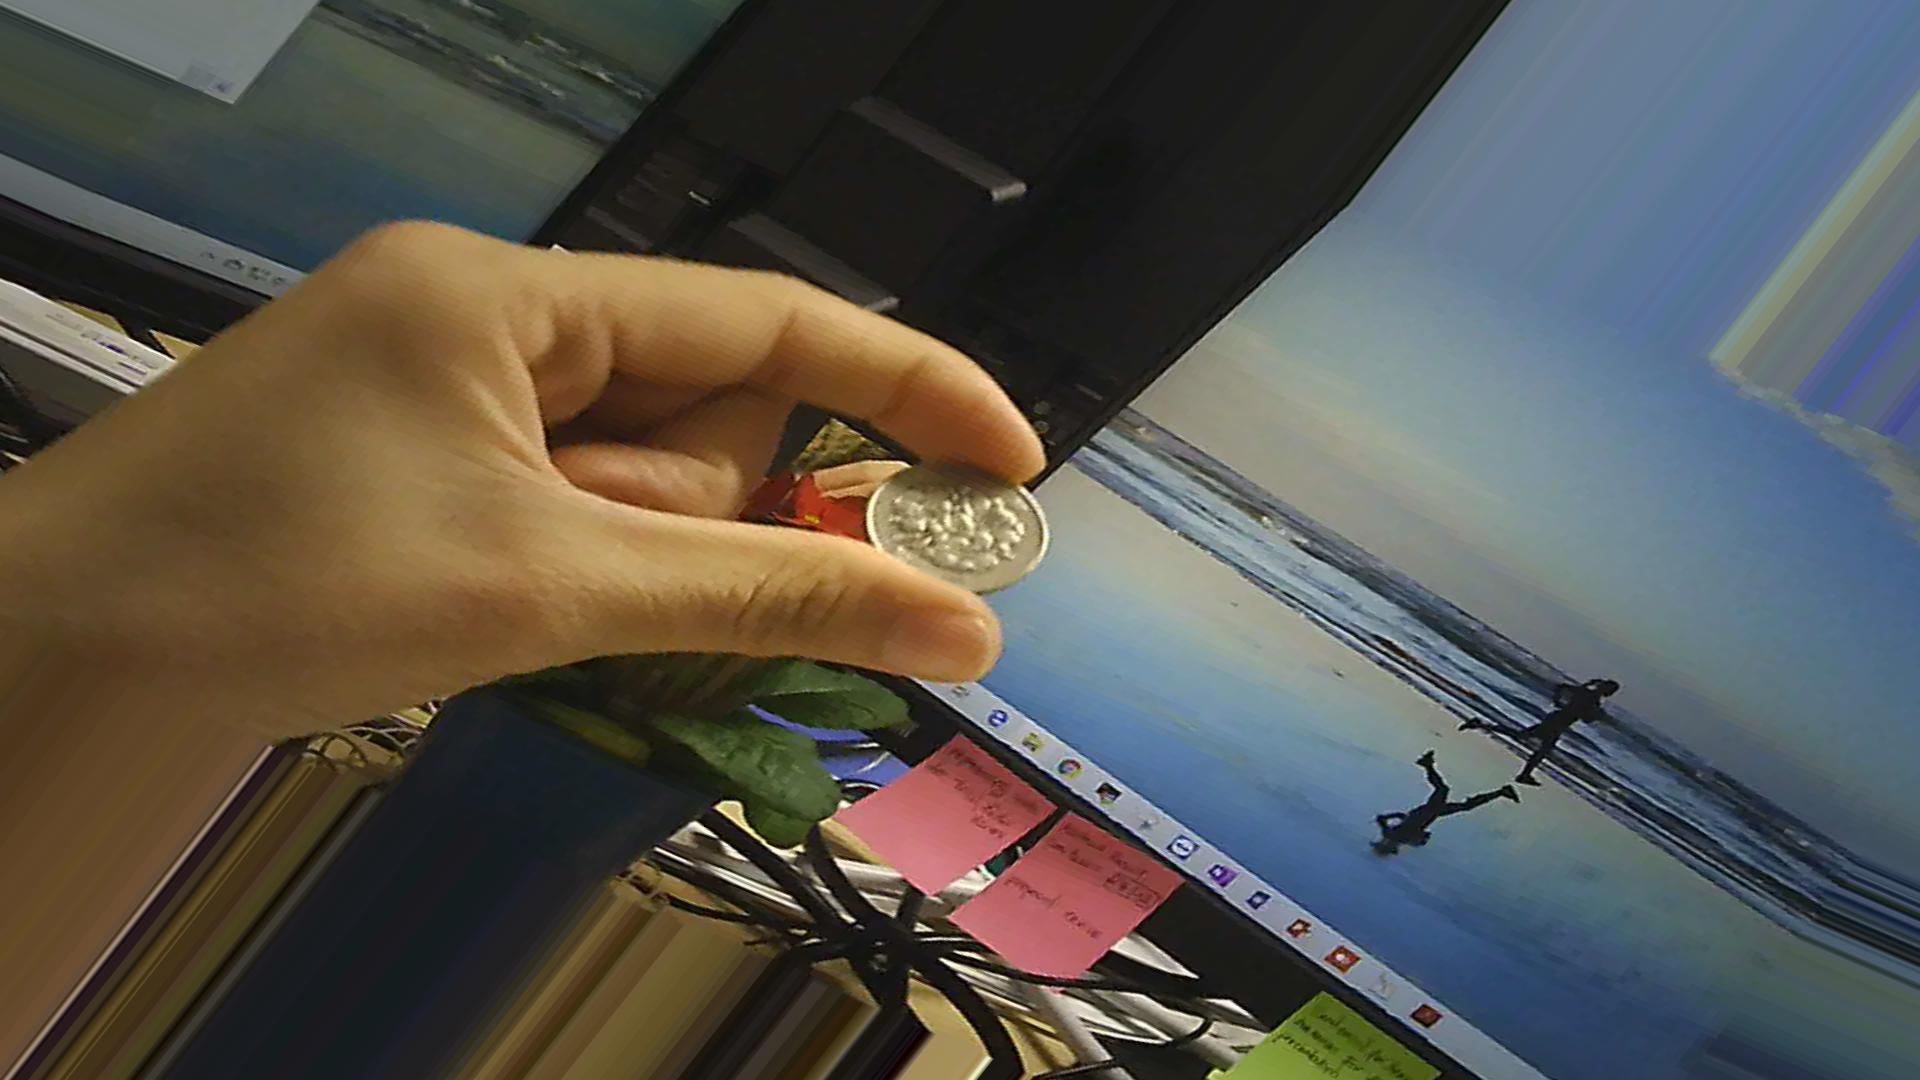100 Yen: (858, 451, 1060, 608)
